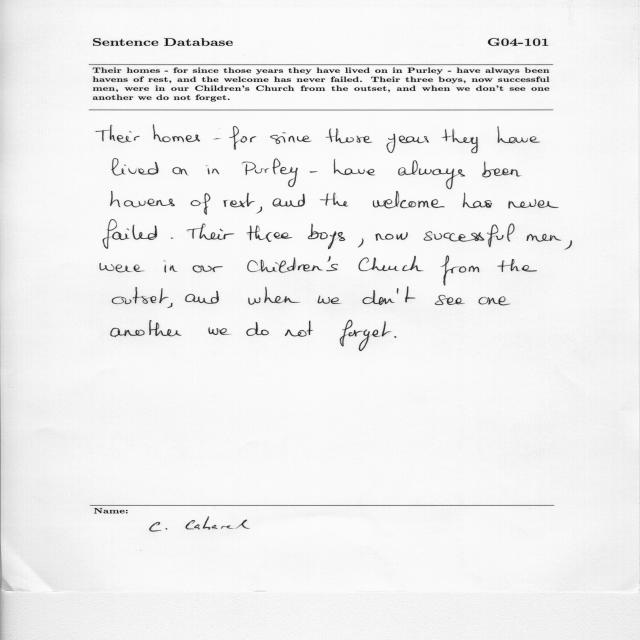word: (424, 224, 515, 248), (398, 160, 465, 189), (242, 158, 298, 187), (103, 219, 157, 249), (340, 320, 391, 351), (247, 256, 338, 273), (373, 191, 445, 209), (111, 320, 181, 337), (442, 256, 479, 286), (110, 191, 175, 208), (358, 256, 423, 271), (112, 287, 169, 304), (363, 287, 416, 305), (248, 287, 300, 305), (308, 224, 345, 249), (441, 129, 478, 153), (386, 134, 429, 153), (153, 125, 200, 142), (188, 223, 235, 240), (96, 125, 140, 143), (112, 159, 158, 176), (247, 225, 292, 242), (497, 126, 540, 143), (326, 129, 372, 144), (334, 159, 375, 175), (230, 126, 257, 150), (482, 162, 521, 177), (497, 259, 537, 272), (270, 132, 312, 144), (509, 199, 559, 208), (223, 193, 255, 207), (285, 321, 313, 337), (185, 291, 219, 304), (191, 193, 211, 215), (463, 193, 492, 208), (272, 194, 305, 207), (100, 263, 144, 272), (320, 193, 348, 207), (246, 322, 269, 336), (375, 232, 408, 241), (435, 295, 464, 305), (479, 297, 511, 306), (527, 234, 562, 242), (193, 266, 223, 273), (318, 295, 341, 304), (209, 327, 230, 335), (164, 260, 177, 272), (173, 167, 189, 176), (206, 165, 219, 174), (564, 240, 572, 250), (358, 239, 363, 248), (256, 207, 262, 214), (167, 303, 172, 308), (310, 171, 318, 173), (214, 138, 221, 140), (171, 237, 173, 239), (395, 336, 397, 338)
